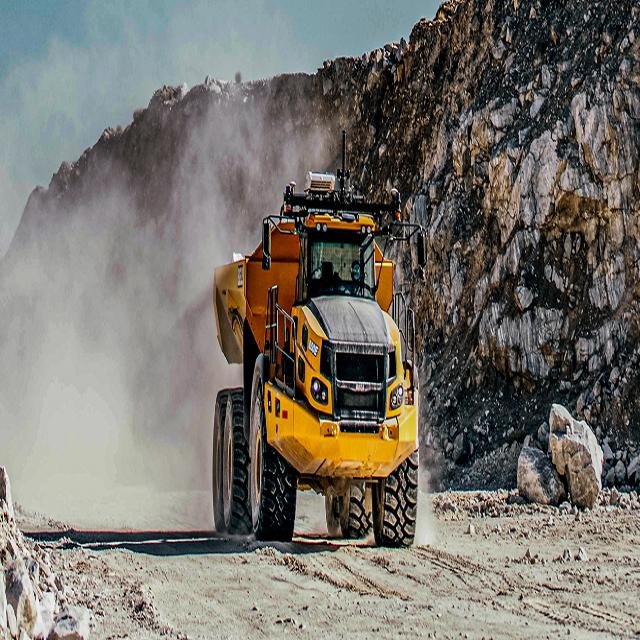dump_truck: (191, 147, 448, 572)
